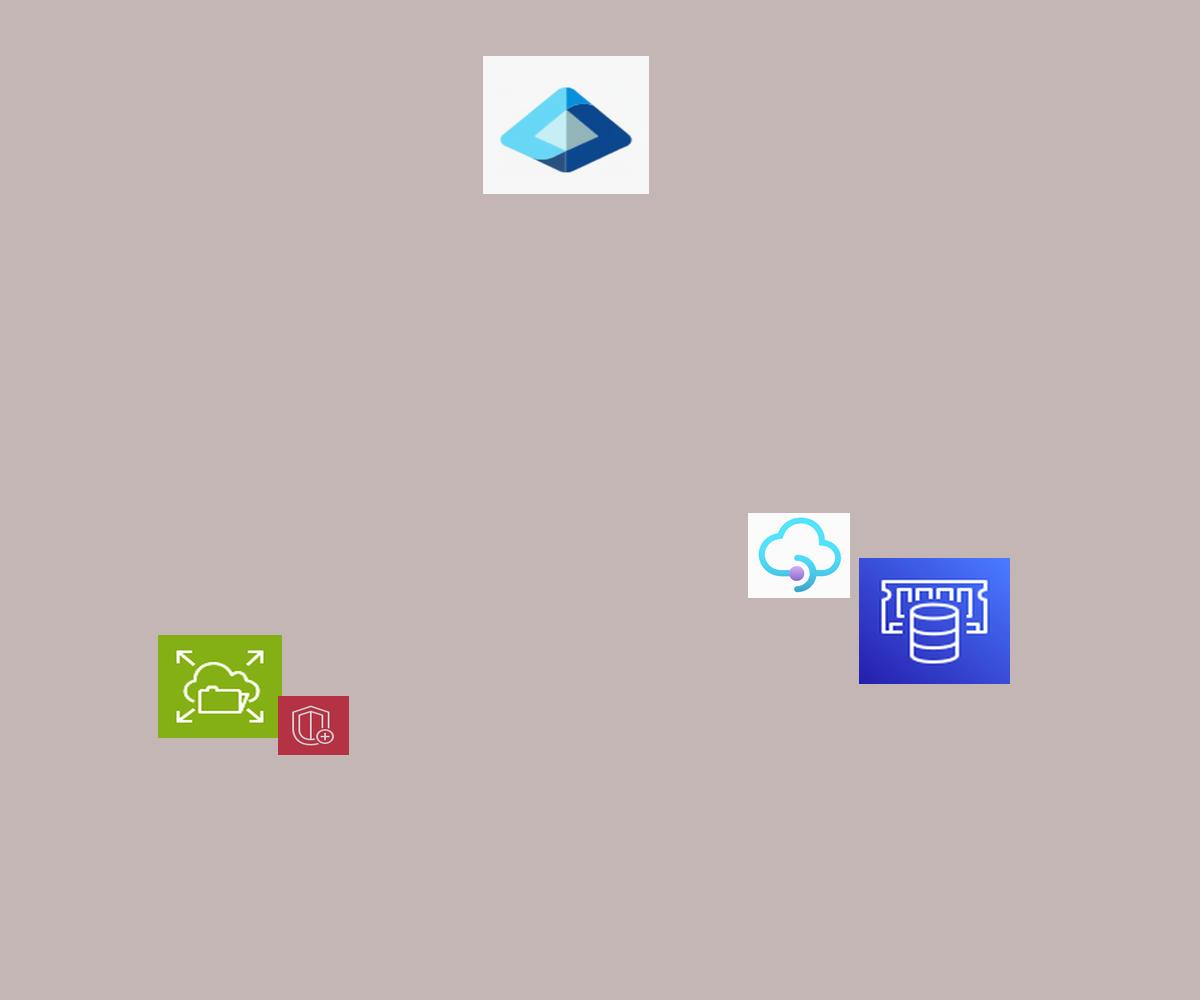AWS-EFS: (158, 635, 282, 738)
AWS-ElastiCache: (859, 558, 1010, 684)
AWS-Shield: (278, 696, 349, 755)
Azure_api_gateway: (748, 513, 850, 598)
Azure_microsoft_entra: (483, 56, 649, 194)
